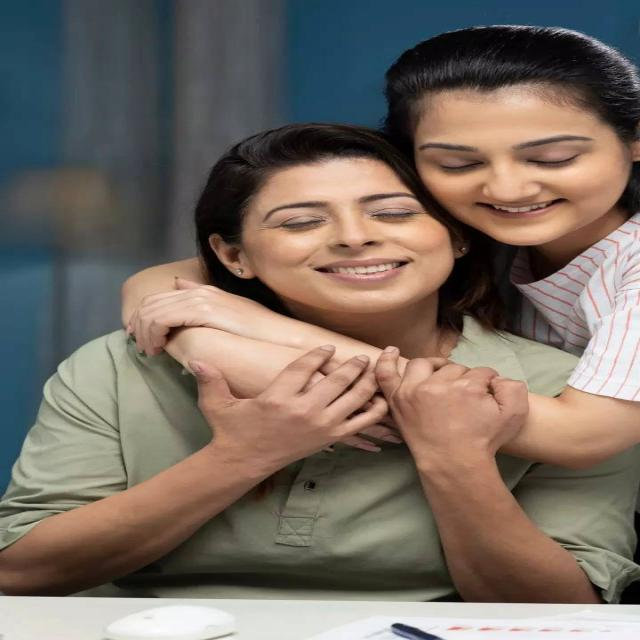adult: (11, 123, 640, 601), (124, 25, 640, 470)
